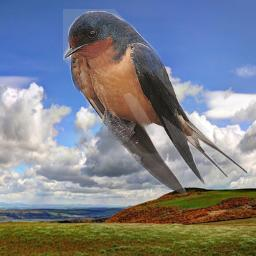Swallow: (63, 9, 247, 195)
